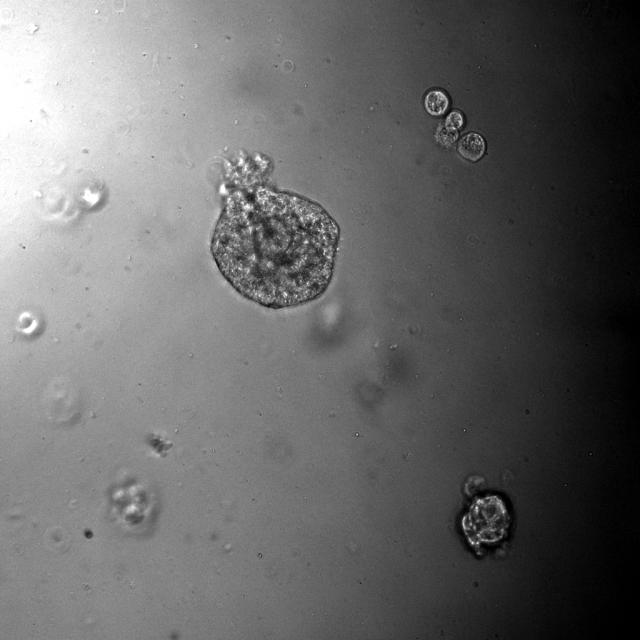organoid: (210, 152, 339, 309), (421, 86, 486, 162), (456, 474, 515, 557), (106, 473, 158, 534), (43, 177, 108, 221), (16, 306, 45, 339), (146, 432, 173, 457)
